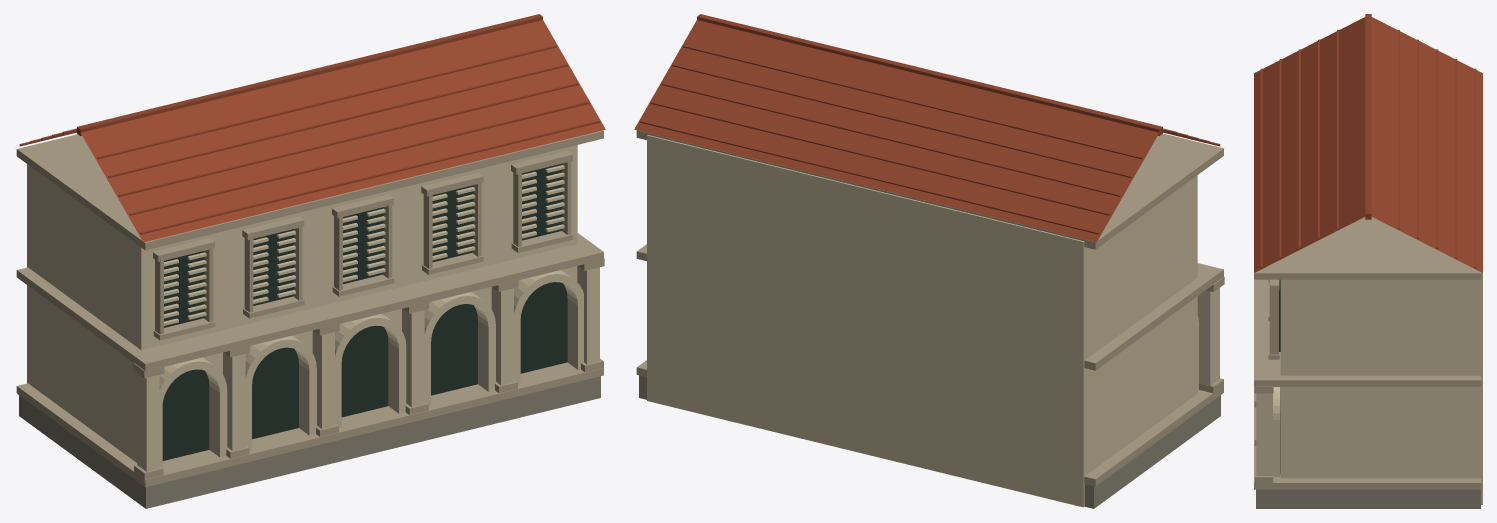
The model's file is env_municipal_hall.obj.
3 views of the same model, side by side, from view 1: azimuth 30°, elevation 25°; view 2: azimuth 150°, elevation 25°; view 3: azimuth 270°, elevation 25° (orthographic). The views are drawn at different scales.
Visible parts, largest first — view 1: MunicipalHall; view 2: MunicipalHall; view 3: MunicipalHall.
Part boxes in pixels (x1,y1,x2,y2): MunicipalHall: (16,14,605,508); MunicipalHall: (634,14,1224,508); MunicipalHall: (1254,14,1482,508).
Bounding box in the file's own units: 12.4 × 8.59 × 6.
